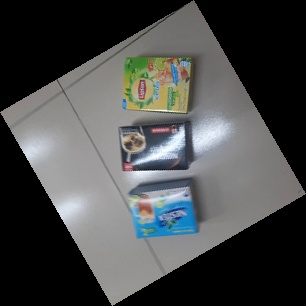CF Viet: (118, 120, 193, 174)
LipTon: (122, 54, 193, 116)
Nestea: (125, 183, 200, 237)
